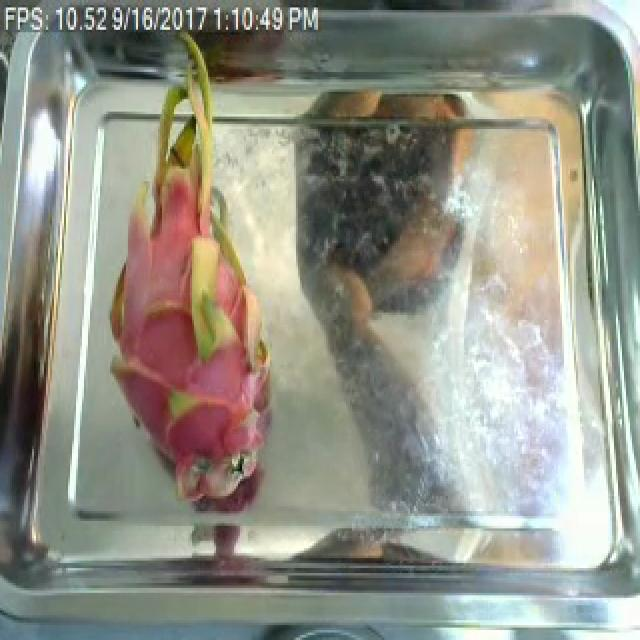fruit: (86, 72, 286, 506)
